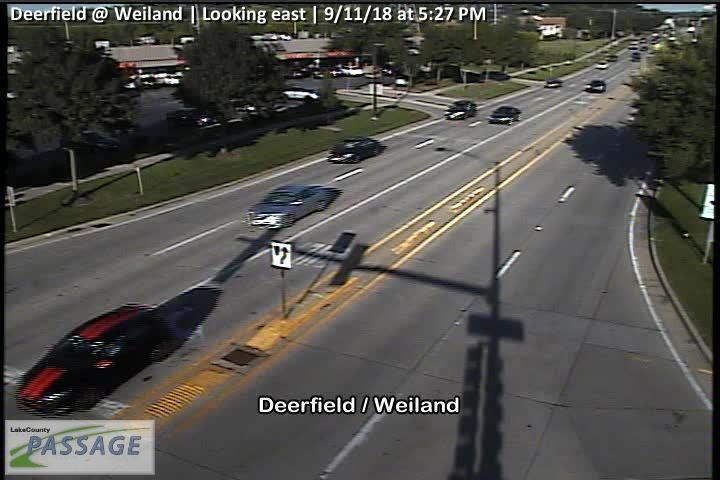Sedan: (15, 299, 174, 417), (242, 183, 337, 230), (327, 135, 381, 164), (486, 106, 522, 126), (443, 100, 476, 120)
